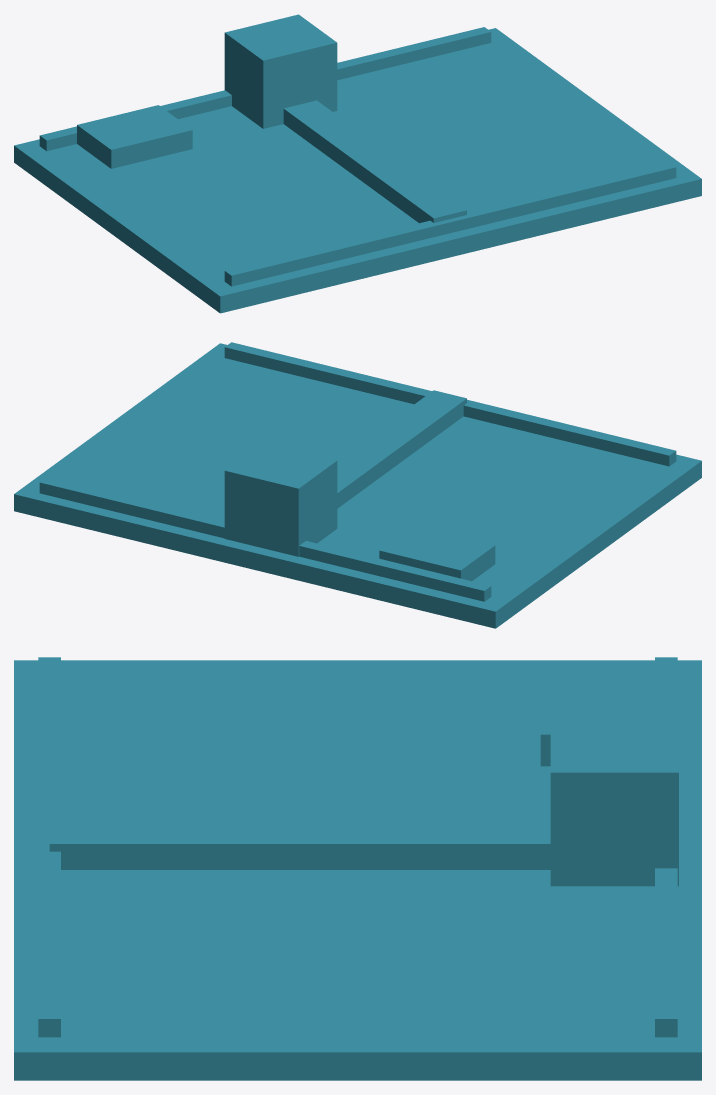
File: aquaculture-pond.source.glb
3 renders of one model, top to bottom at view 1: azimuth 30°, elevation 25°; view 2: azimuth 150°, elevation 25°; view 3: azimuth 270°, elevation 25°, orthographic. The views are drawn at different scales.
Visible parts, largest first — view 1: aquaculture-pond-shore-mesh, aquaculture-pond-pump-shed-mesh, aquaculture-pond-edge-2.16-mesh, aquaculture-pond-walkway-mesh, aquaculture-pond-feed-dock-mesh, aquaculture-pond-edge--2.16-mesh; view 2: aquaculture-pond-shore-mesh, aquaculture-pond-pump-shed-mesh, aquaculture-pond-edge-2.16-mesh, aquaculture-pond-edge--2.16-mesh, aquaculture-pond-walkway-mesh, aquaculture-pond-feed-dock-mesh; view 3: aquaculture-pond-shore-mesh, aquaculture-pond-walkway-mesh, aquaculture-pond-pump-shed-mesh, aquaculture-pond-edge-2.16-mesh, aquaculture-pond-feed-dock-mesh, aquaculture-pond-edge--2.16-mesh.
Part boxes in pixels (x1,y1,x2,y2): aquaculture-pond-shore-mesh: [14, 28, 701, 313]; aquaculture-pond-pump-shed-mesh: [224, 14, 337, 128]; aquaculture-pond-edge-2.16-mesh: [224, 162, 676, 286]; aquaculture-pond-walkway-mesh: [283, 100, 466, 223]; aquaculture-pond-feed-dock-mesh: [77, 105, 192, 168]; aquaculture-pond-edge--2.16-mesh: [39, 27, 491, 151]; aquaculture-pond-shore-mesh: [14, 343, 701, 628]; aquaculture-pond-pump-shed-mesh: [224, 442, 337, 556]; aquaculture-pond-edge-2.16-mesh: [224, 342, 676, 466]; aquaculture-pond-edge--2.16-mesh: [39, 477, 491, 601]; aquaculture-pond-walkway-mesh: [337, 390, 466, 508]; aquaculture-pond-feed-dock-mesh: [379, 525, 495, 581]; aquaculture-pond-shore-mesh: [14, 660, 701, 1080]; aquaculture-pond-walkway-mesh: [49, 817, 550, 869]; aquaculture-pond-pump-shed-mesh: [550, 712, 678, 886]; aquaculture-pond-edge-2.16-mesh: [38, 657, 60, 1037]; aquaculture-pond-feed-dock-mesh: [540, 668, 654, 766]; aquaculture-pond-edge--2.16-mesh: [655, 657, 677, 1037].
Size of the model in its own units: 6.5 by 1.1 by 4.82.
